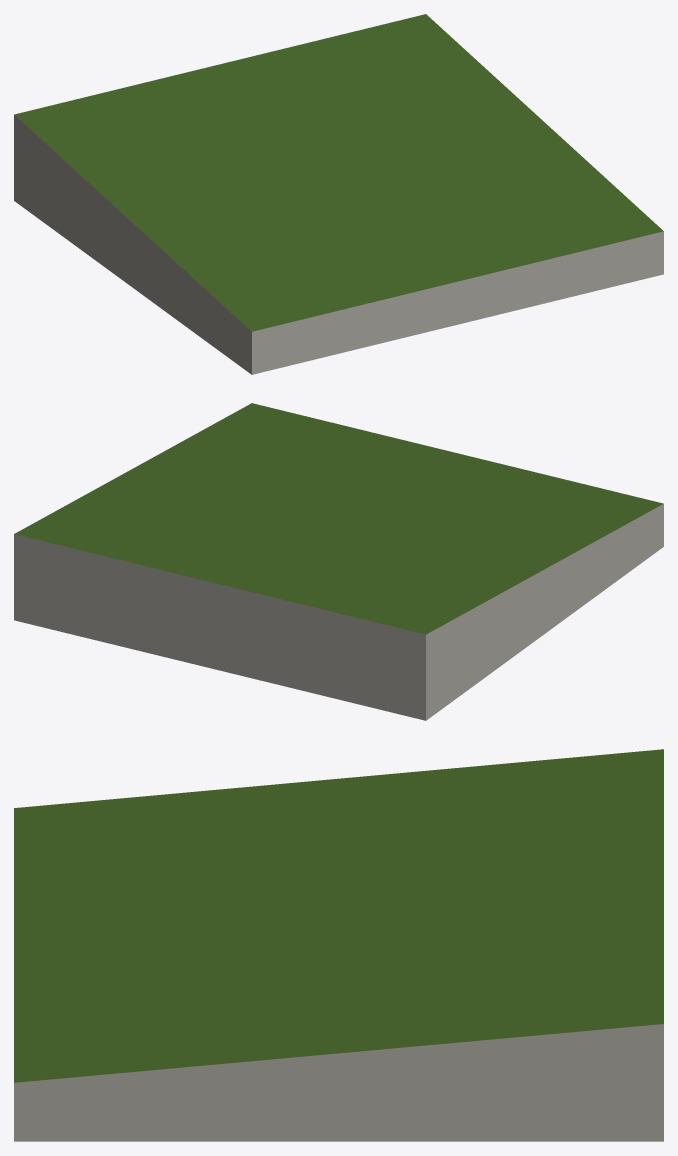
File: Terrain_Modular_Tiles_Grass_Rock_Ramp_Small_01.fbx
3 renders of one model, top to bottom at view 1: azimuth 30°, elevation 25°; view 2: azimuth 150°, elevation 25°; view 3: azimuth 270°, elevation 25°, orthographic. The views are drawn at different scales.
Visible parts, largest first — view 1: Terrain_Modular_Tiles_Grass_Rock_Ramp_Small_01; view 2: Terrain_Modular_Tiles_Grass_Rock_Ramp_Small_01; view 3: Terrain_Modular_Tiles_Grass_Rock_Ramp_Small_01.
Boxes of the visible parts, bbox=[...] form: Terrain_Modular_Tiles_Grass_Rock_Ramp_Small_01: bbox=[14, 14, 663, 374]; Terrain_Modular_Tiles_Grass_Rock_Ramp_Small_01: bbox=[14, 403, 663, 720]; Terrain_Modular_Tiles_Grass_Rock_Ramp_Small_01: bbox=[14, 749, 663, 1141].
Bounding box in the file's own units: 3000 × 600 × 3000.
